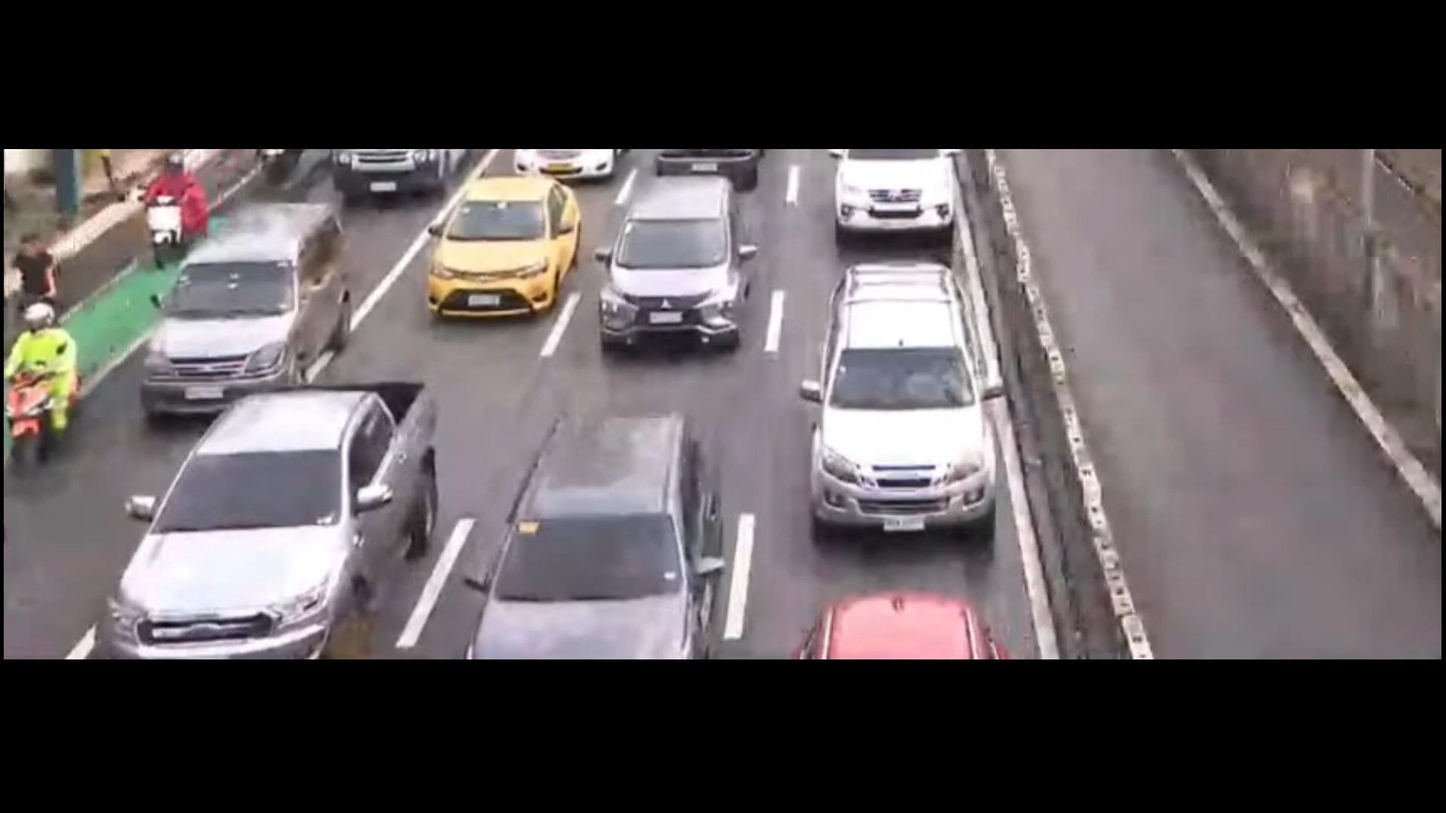Motorcycle: (0, 300, 81, 482), (135, 145, 234, 276)
Pickup: (97, 360, 450, 664)
SUV: (450, 384, 727, 655), (789, 256, 1030, 542), (572, 158, 767, 358)
Sedan: (406, 187, 592, 339)
Van: (140, 181, 352, 417)
